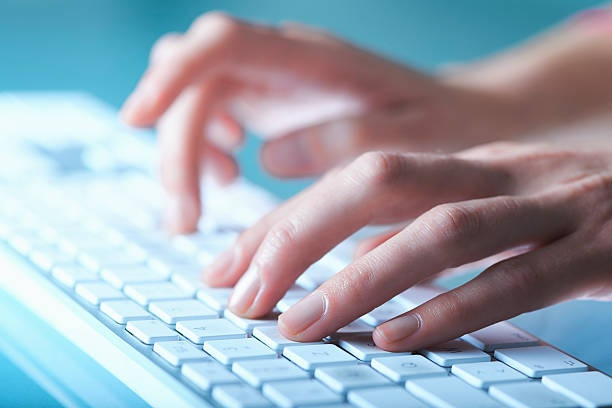keyboard: (47, 146, 611, 408)
